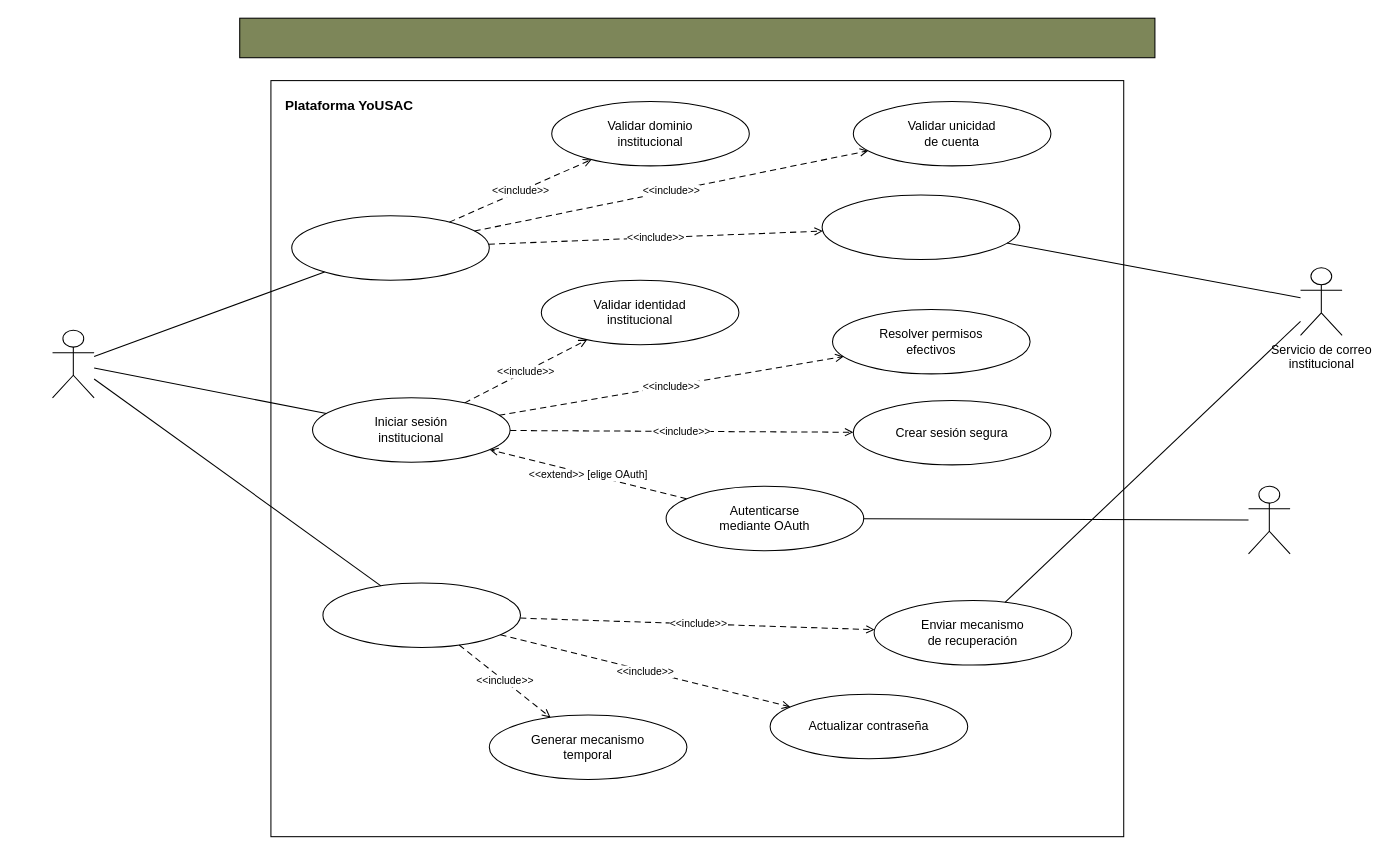
Image size: 1389x855. Some labels were removed from this diagram. The shapes that lost their labels are listed below. From the top down, each one's centre as x and y in pixels, then its label:
the point at 697,37: Plataforma YoUSAC — Autenticación
the point at 920,226: Enviar confirmación de registro
the point at 390,247: Registrarse con correo institucional
the point at 72,363: Usuario institucional
the point at 1268,519: Proveedor OAuth institucional
the point at 421,614: Recuperar acceso
